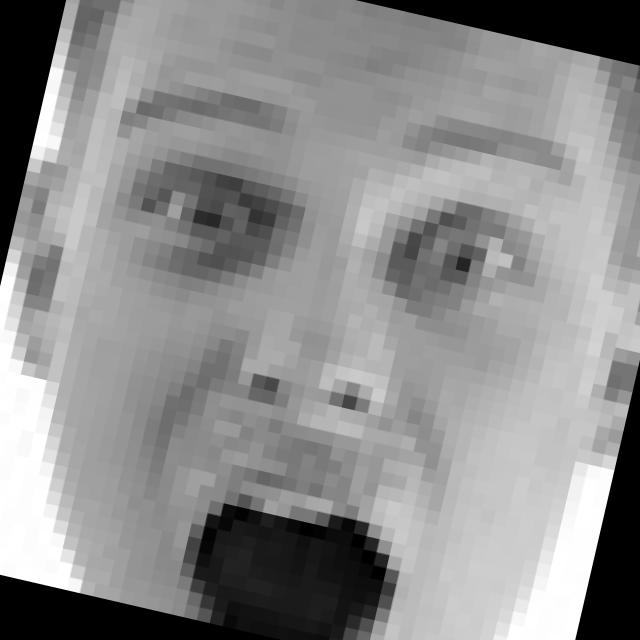surprise: (6, 39, 589, 640)
